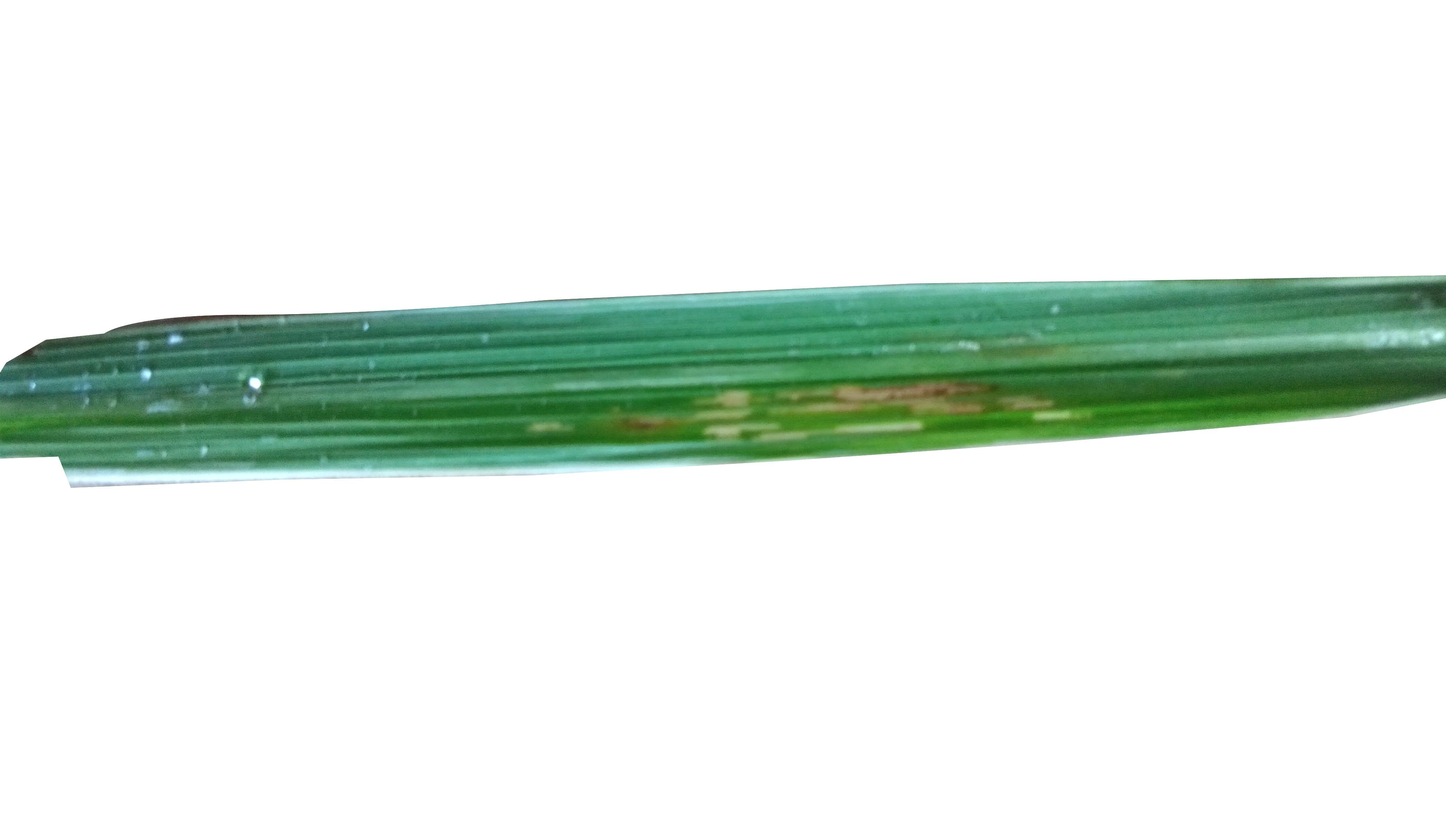Blight: (843, 353, 1064, 434), (605, 386, 687, 457)
